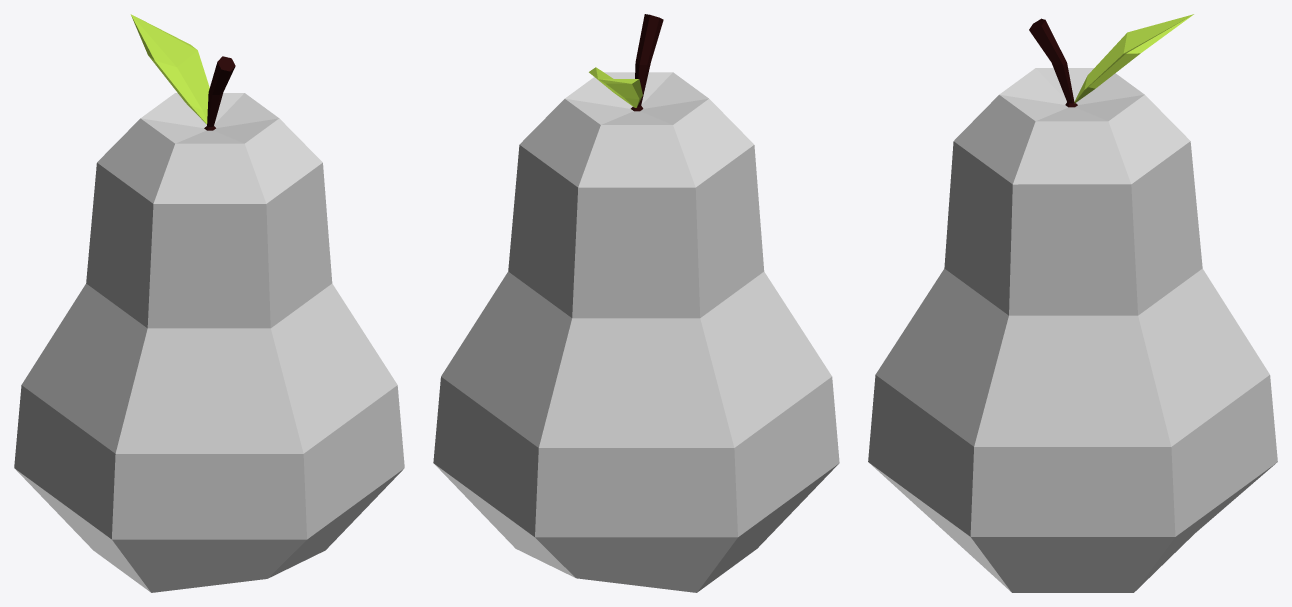
File: pear.fbx
3 views of the same model, side by side, from view 1: azimuth 30°, elevation 25°; view 2: azimuth 150°, elevation 25°; view 3: azimuth 270°, elevation 25° (orthographic). The views are drawn at different scales.
Visible parts, largest first — view 1: Sphere, Sphere.002, Sphere.001; view 2: Sphere, Sphere.001, Sphere.002; view 3: Sphere, Sphere.002, Sphere.001.
Part boxes in pixels (x1,y1,x2,y2): Sphere: (14, 93, 404, 592); Sphere.002: (130, 14, 209, 124); Sphere.001: (204, 56, 235, 130); Sphere: (433, 72, 839, 592); Sphere.001: (631, 14, 663, 111); Sphere.002: (589, 67, 642, 107); Sphere: (868, 68, 1277, 592); Sphere.002: (1074, 14, 1193, 103); Sphere.001: (1029, 18, 1077, 107).
Size of the model in its own units: 21.82 by 35.85 by 25.19.
